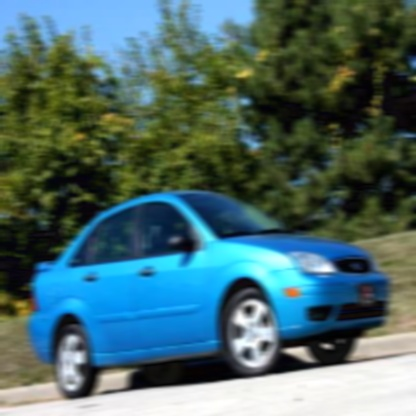Vehicle: (29, 191, 392, 399)
